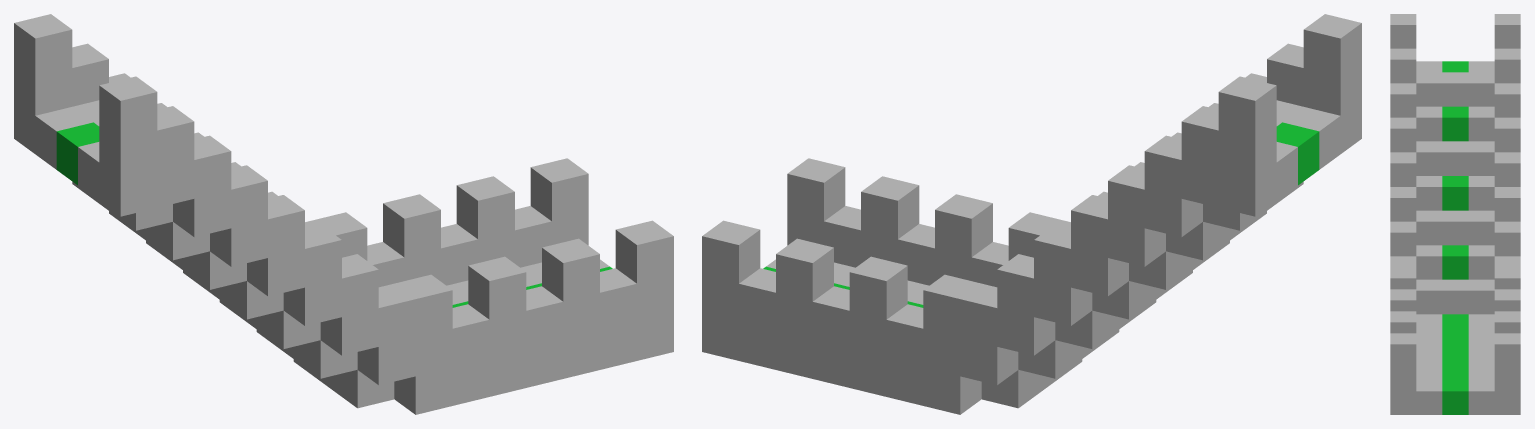
The model's file is Hub_stair.obj.
The picture shows the model from 3 angles, left to right: view 1: azimuth 30°, elevation 25°; view 2: azimuth 150°, elevation 25°; view 3: azimuth 270°, elevation 25°; orthographic projection. The views are drawn at different scales.
Size of the model in its own units: 15 by 10 by 5.
1 material, 1 textured.
